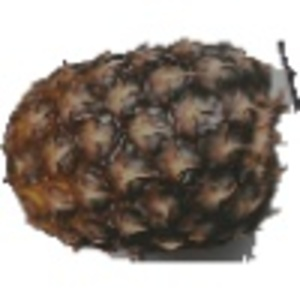abacaxi: (2, 34, 275, 253)
